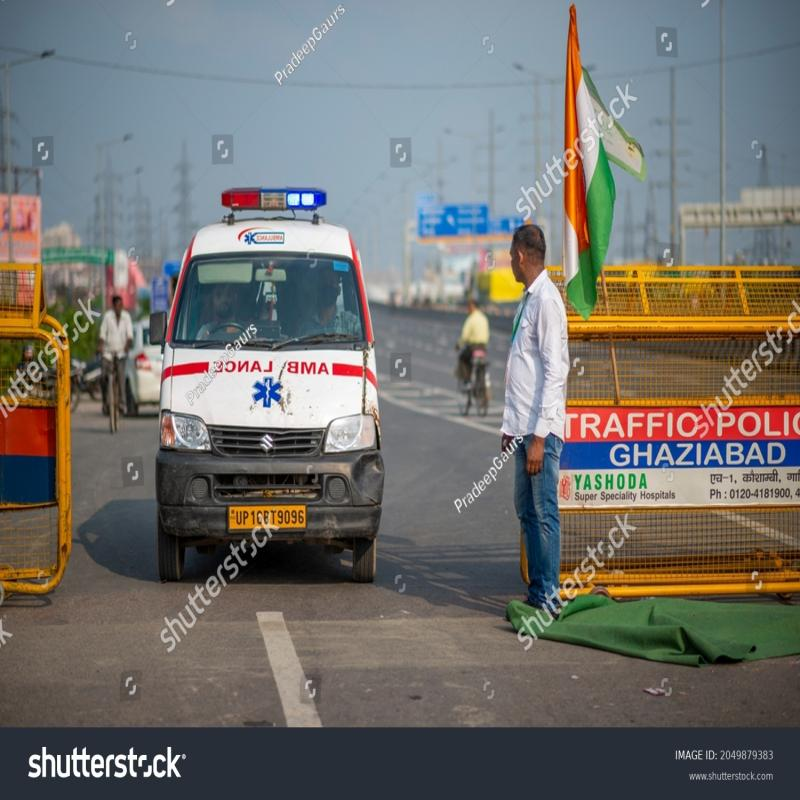ambulance: (137, 163, 400, 578)
